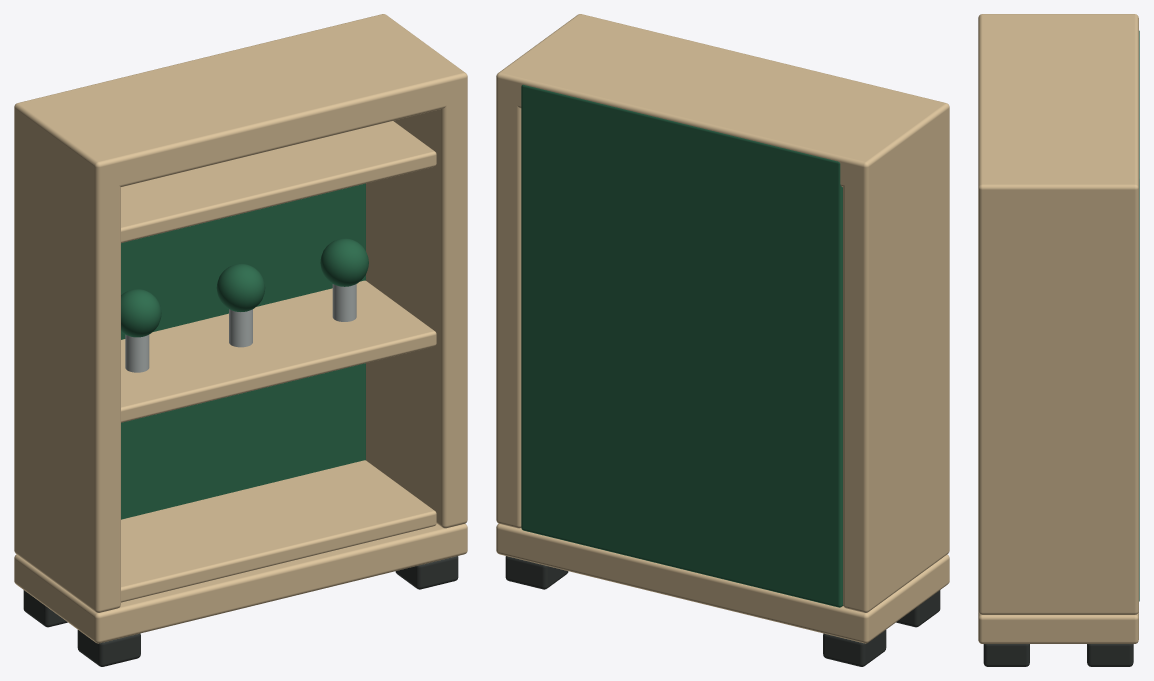
File: cricket-ground-and-pavilion-helmet-storage-shelf-91051d1d__31320.glb
3 views of the same model, side by side, from view 1: azimuth 30°, elevation 25°; view 2: azimuth 150°, elevation 25°; view 3: azimuth 270°, elevation 25° (orthographic). The views are drawn at different scales.
Visible parts, largest first — view 1: helmet-storage-shelf; view 2: helmet-storage-shelf; view 3: helmet-storage-shelf.
Boxes of the visible parts, x1,y1,x2,y2 form: helmet-storage-shelf: (14,14,467,666); helmet-storage-shelf: (496,14,949,666); helmet-storage-shelf: (978,14,1139,666).
Bounding box in the file's own units: 1.15 × 1.5 × 0.4525.
